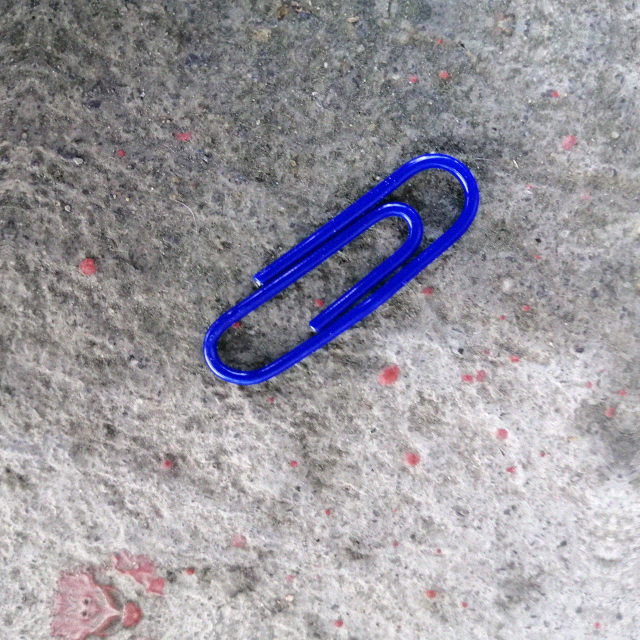pin: (204, 114, 482, 417)
